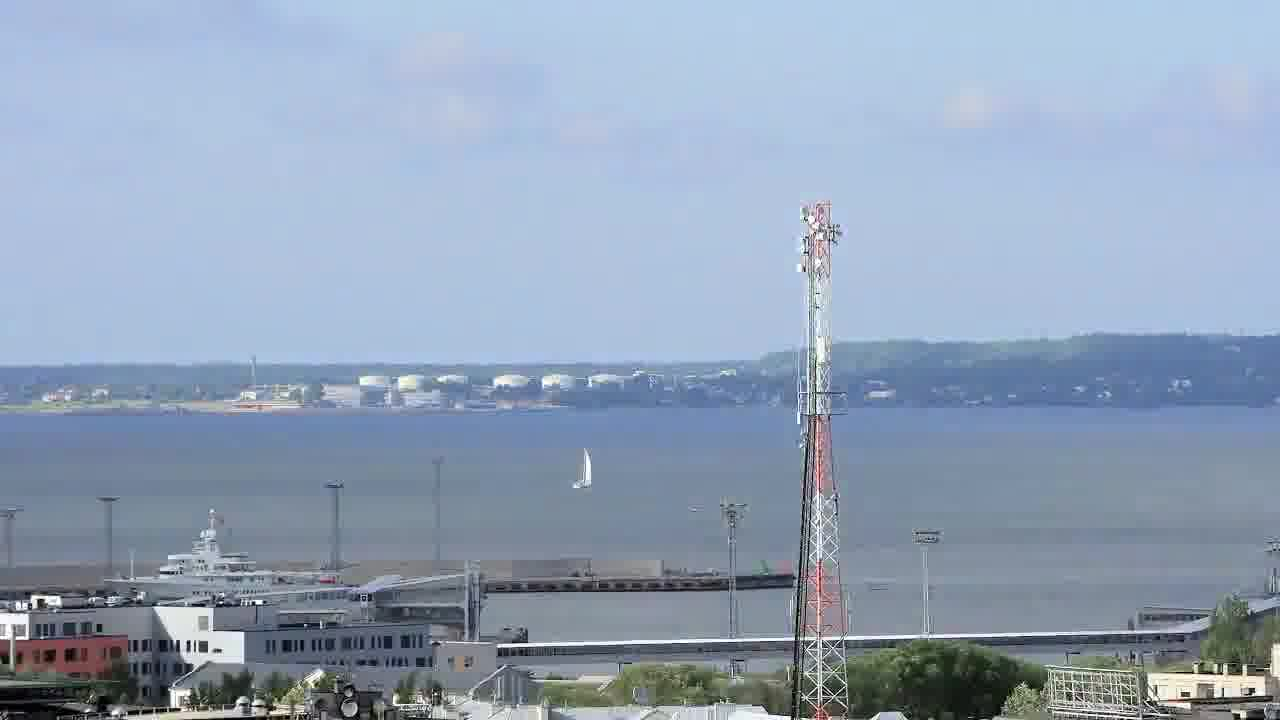type-2: (560, 442, 613, 499)
type-3: (84, 515, 355, 603)
